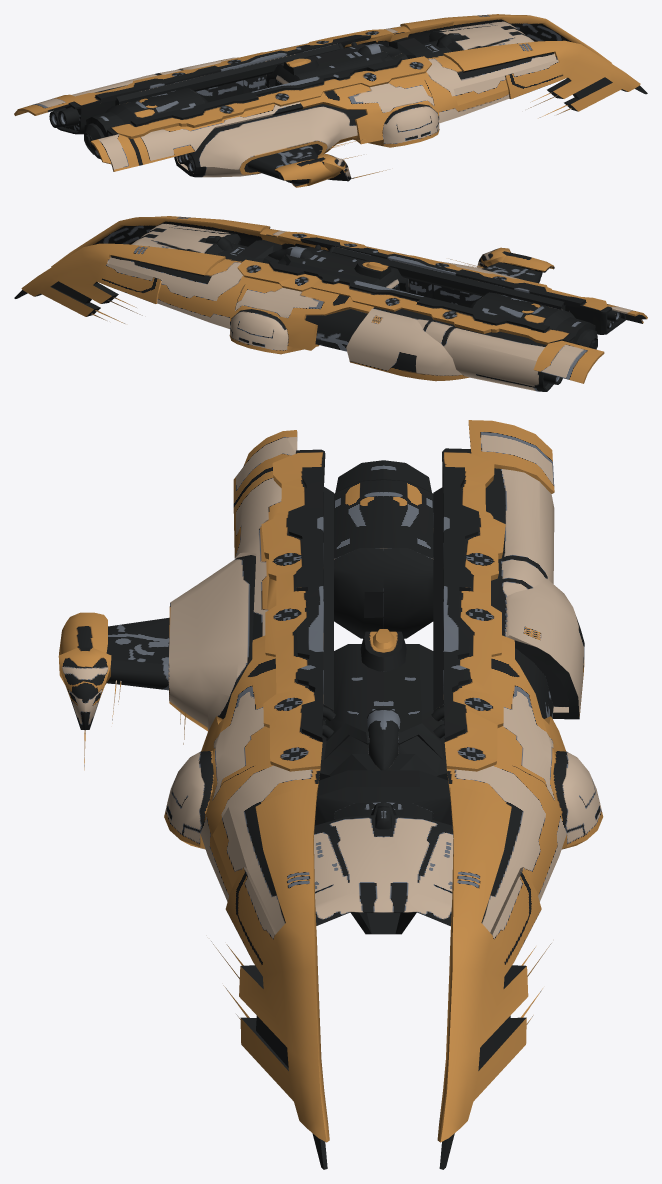
Rendered from coercer.glb.
3 views of the same model, one above another, from view 1: azimuth 30°, elevation 25°; view 2: azimuth 150°, elevation 25°; view 3: azimuth 270°, elevation 25° (orthographic). The views are drawn at different scales.
Parts seen in each view (by area): view 1: Coercer; view 2: Coercer; view 3: Coercer.
Boxes of the visible parts, bbox=[...] form: Coercer: bbox=[14, 14, 647, 187]; Coercer: bbox=[14, 216, 647, 391]; Coercer: bbox=[58, 420, 603, 1169].
Bounding box in the file's own units: 281 × 48.16 × 115.
Materials: 1 (1 with a texture image).
